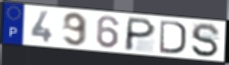4: (29, 10, 54, 44)
6: (95, 15, 121, 50)
9: (61, 11, 88, 47)
D: (159, 19, 188, 56)
P: (123, 16, 158, 53)
S: (190, 22, 222, 59)
